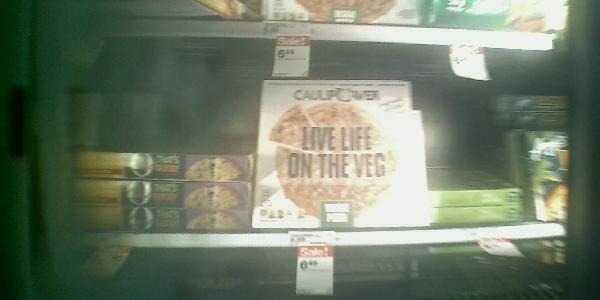pizza1: (68, 152, 251, 181), (68, 184, 251, 211), (68, 211, 251, 231), (399, 209, 532, 228), (401, 191, 524, 209)
